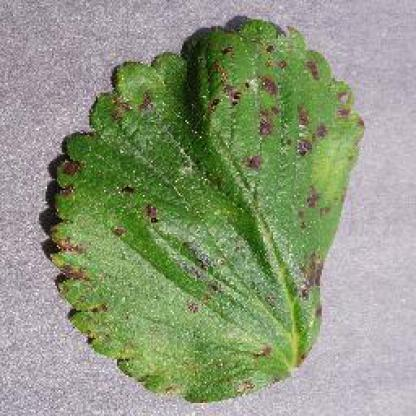leaf scorch: (37, 11, 374, 408)
